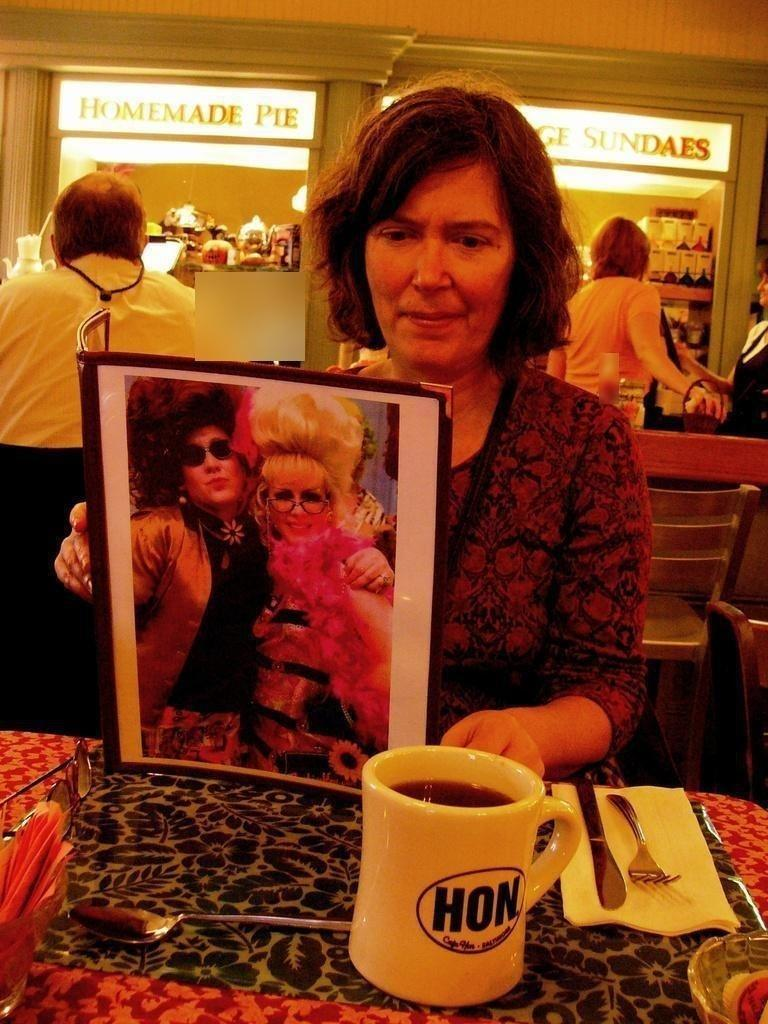cup-handle: (346, 745, 584, 1009)
